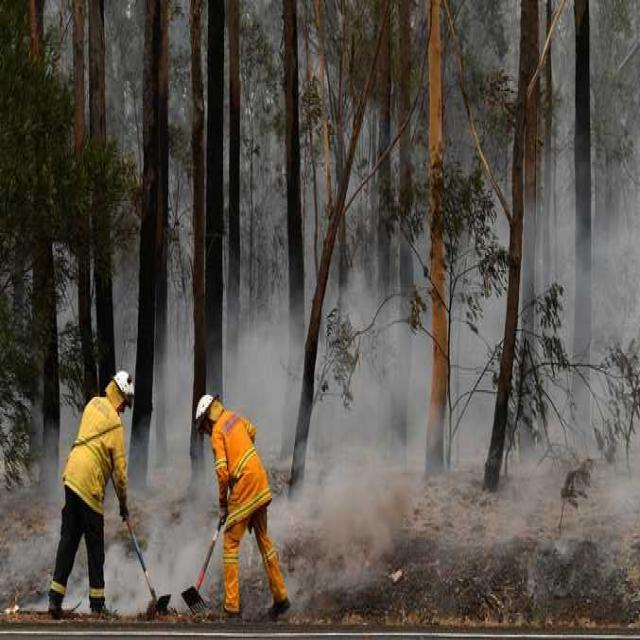Smoke: (10, 128, 640, 620)
